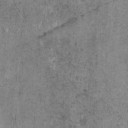finishing roll printing: (37, 16, 78, 39), (80, 6, 96, 16)
